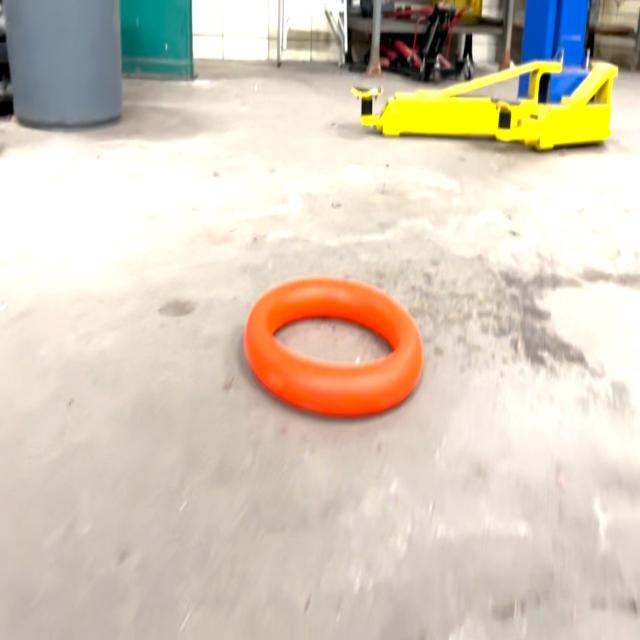note: (244, 273, 424, 421)
